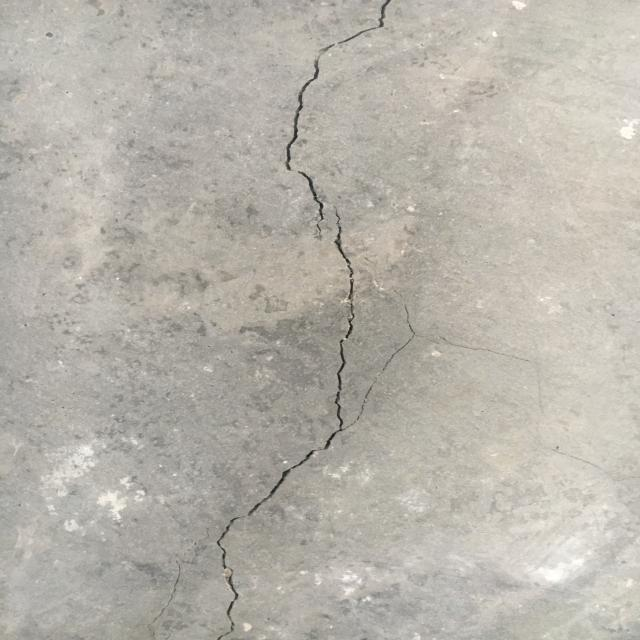Rachadura: (216, 209, 355, 640), (285, 0, 391, 237)
